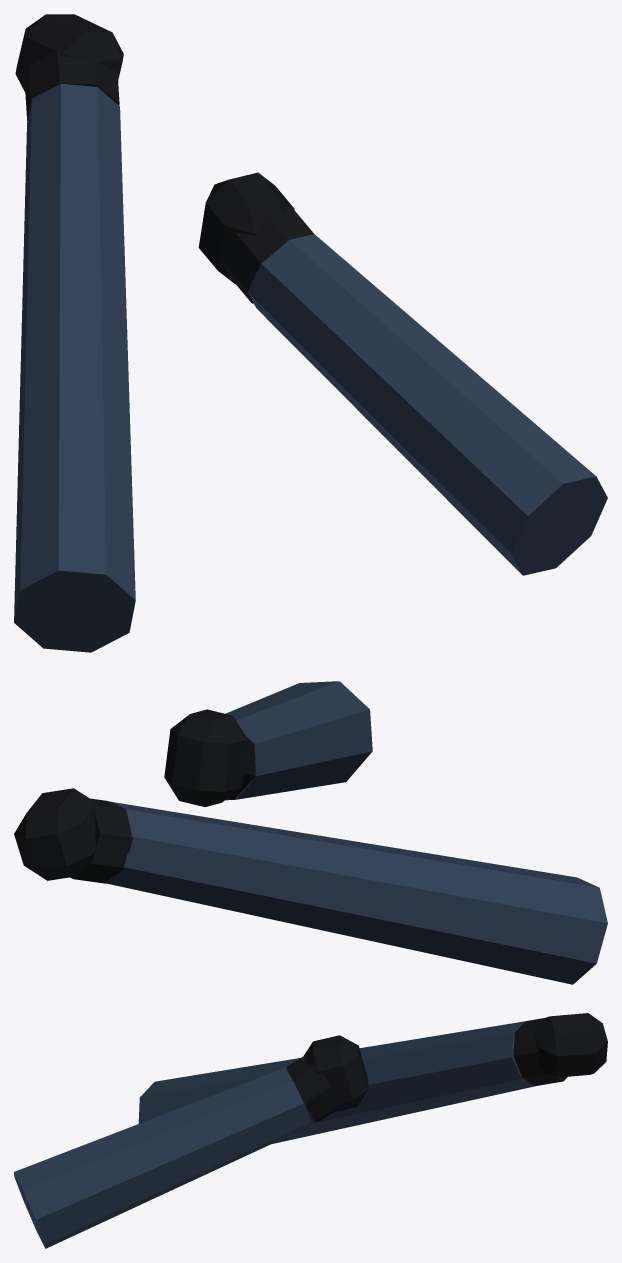
File: arms_ct.glb
The picture shows the model from 3 angles, top to bottom: view 1: azimuth 30°, elevation 25°; view 2: azimuth 150°, elevation 25°; view 3: azimuth 270°, elevation 25°; orthographic projection. The views are drawn at different scales.
Parts seen in each view (by area): view 1: VArmL, VArmR; view 2: VArmL, VArmR; view 3: VArmR, VArmL.
Boxes of the visible parts, bbox=[...] form: VArmL: bbox=[14, 14, 135, 652]; VArmR: bbox=[198, 172, 607, 575]; VArmL: bbox=[14, 788, 607, 984]; VArmR: bbox=[164, 681, 372, 806]; VArmR: bbox=[14, 1035, 368, 1248]; VArmL: bbox=[138, 1013, 607, 1143].
Size of the model in its own units: 0.4898 by 0.338 by 0.7586.
